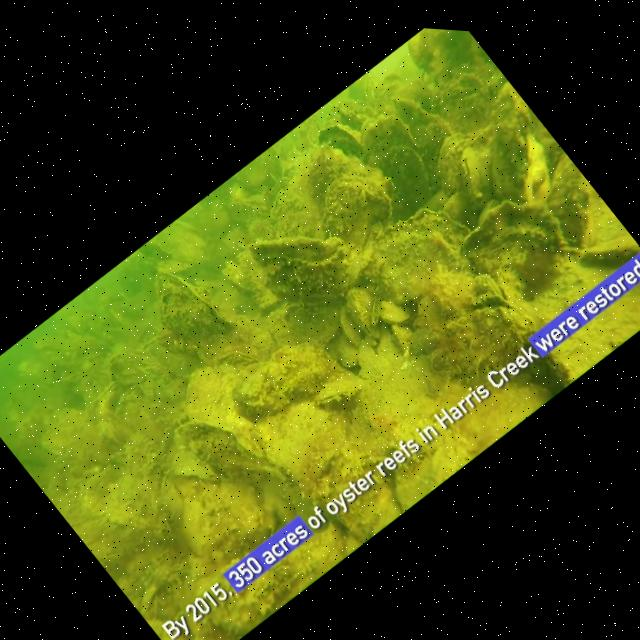Oyster-Closed: (155, 270, 232, 343), (462, 145, 492, 205)
Oyster-Indeterminate: (185, 515, 356, 640), (410, 271, 533, 382), (371, 207, 469, 303), (462, 198, 562, 285), (256, 400, 345, 479), (174, 420, 279, 477), (322, 166, 391, 241), (284, 143, 363, 206), (113, 386, 182, 445), (232, 359, 292, 419), (183, 362, 238, 425), (379, 145, 431, 210), (41, 406, 100, 461), (361, 114, 418, 159), (181, 495, 224, 553), (437, 131, 472, 195), (577, 230, 640, 265), (493, 80, 533, 135), (139, 360, 185, 400), (345, 283, 379, 337), (524, 133, 550, 202), (108, 350, 156, 386), (318, 122, 362, 156), (89, 379, 124, 420), (443, 191, 478, 227), (527, 358, 564, 392), (160, 477, 183, 521), (339, 304, 363, 345), (329, 331, 357, 366), (144, 504, 171, 537), (379, 299, 410, 321)
Oyster-Open: (248, 235, 369, 306), (407, 28, 492, 83), (315, 369, 364, 403), (212, 349, 258, 368), (376, 449, 405, 475), (140, 583, 157, 614)
